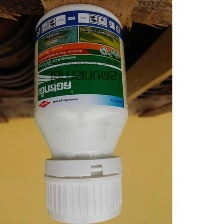insecticide: (28, 1, 131, 223)
